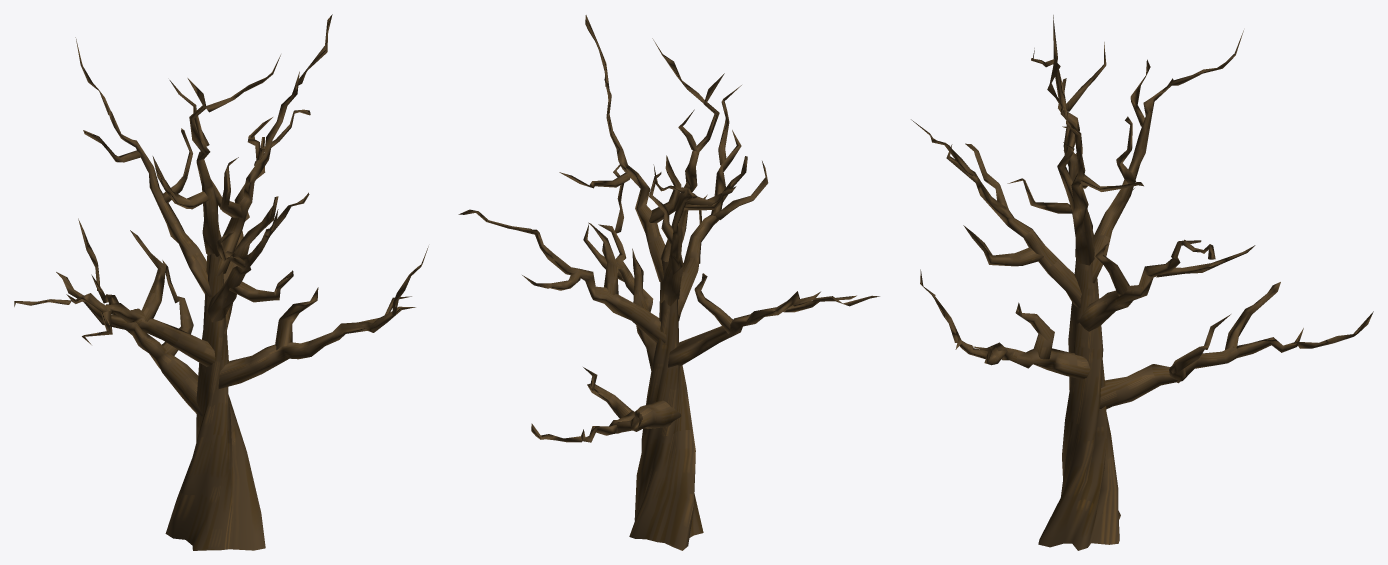
Rendered from Tree1.fbx.
The picture shows the model from 3 angles, left to right: view 1: azimuth 30°, elevation 25°; view 2: azimuth 150°, elevation 25°; view 3: azimuth 270°, elevation 25°; orthographic projection. The views are drawn at different scales.
Visible parts, largest first — view 1: geo1; view 2: geo1; view 3: geo1.
Boxes of the visible parts, <box> form: geo1: <box>14,14,428,550</box>; geo1: <box>458,15,879,550</box>; geo1: <box>911,15,1373,550</box>.
Bounding box in the file's own units: 13.52 × 17.8 × 14.34.
